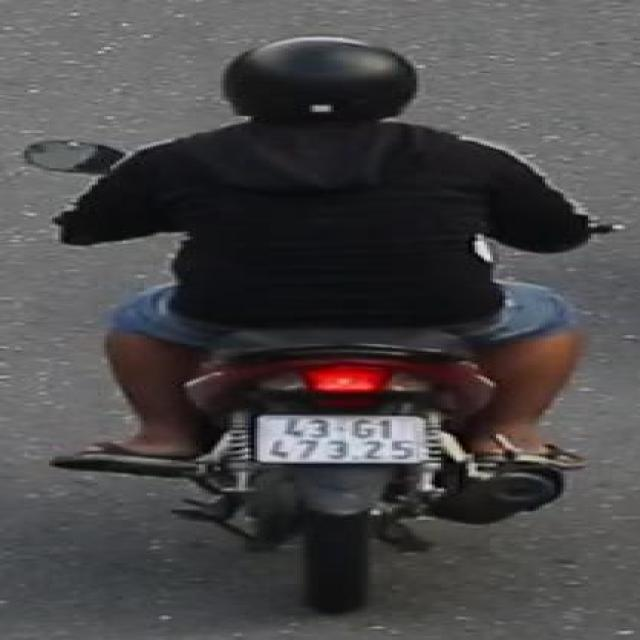LP: (251, 408, 432, 465)
helmet: (213, 31, 427, 138)
